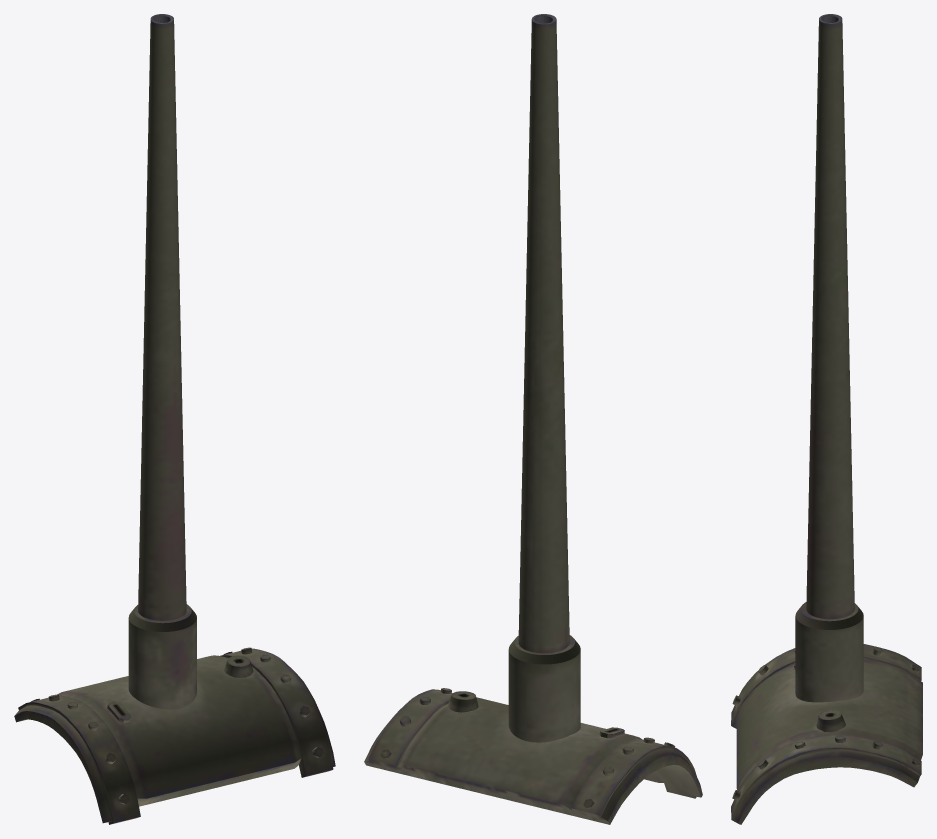
File: Gun_05.glb
3 renders of one model, left to right at view 1: azimuth 30°, elevation 25°; view 2: azimuth 150°, elevation 25°; view 3: azimuth 270°, elevation 25°, orthographic. The views are drawn at different scales.
Visible parts, largest first — view 1: set_0_group_0; view 2: set_0_group_0; view 3: set_0_group_0.
Part boxes in pixels (left/top/right/bottom): set_0_group_0: left=14, top=14, right=335, bottom=824; set_0_group_0: left=364, top=14, right=702, bottom=824; set_0_group_0: left=731, top=14, right=922, bottom=824.
Size of the model in its own units: 0.5861 by 1.81 by 0.4212.
Materials: 1 (1 with a texture image).
